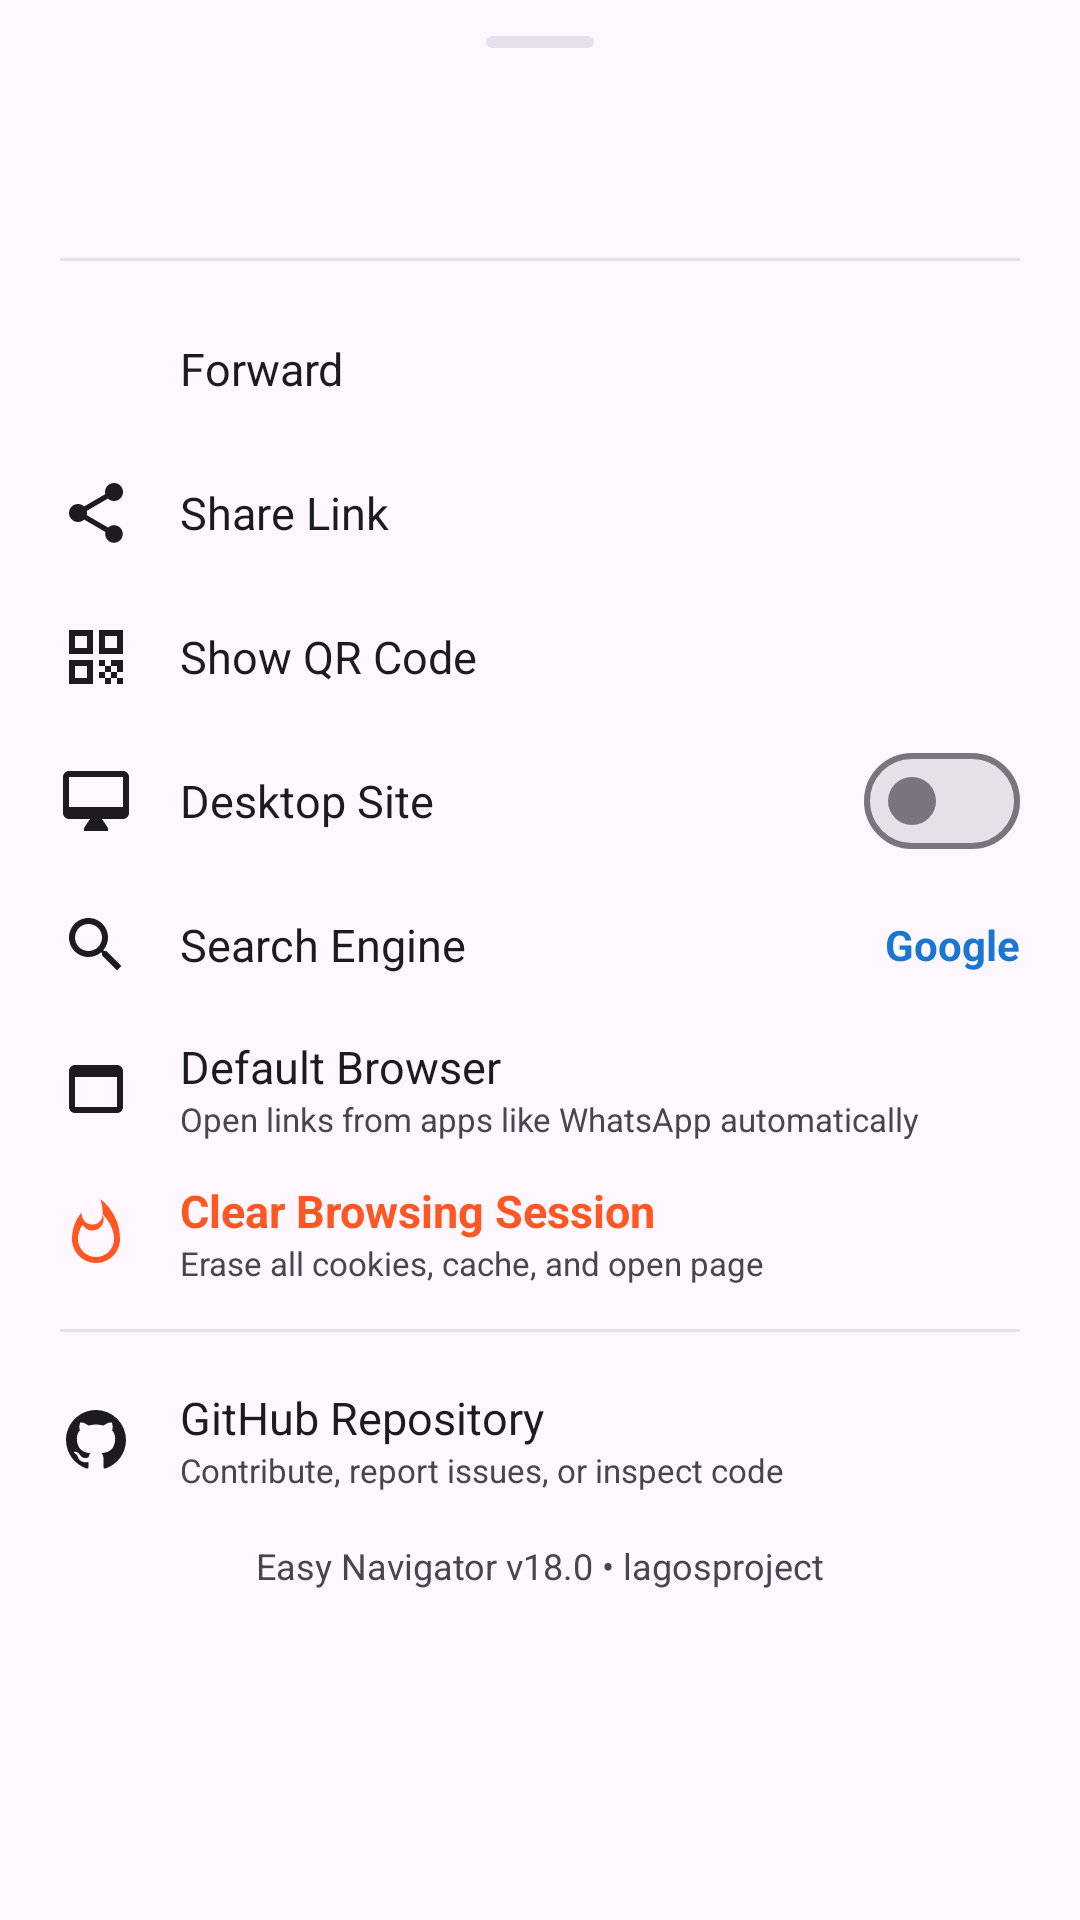

Icons on this 1080px×1920px Android screen, each with the point to tap as point (x, y):
fire wipe: point (96, 1231)
open in browser: point (96, 1089)
